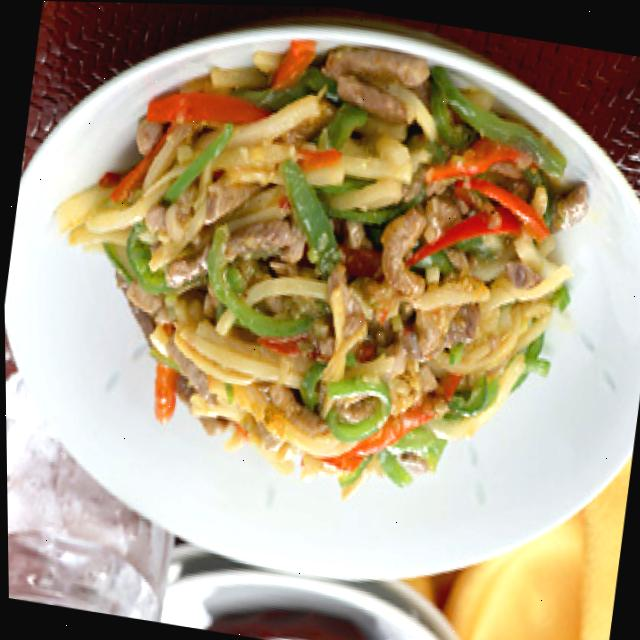牛肉菜式: (39, 1, 640, 578)
